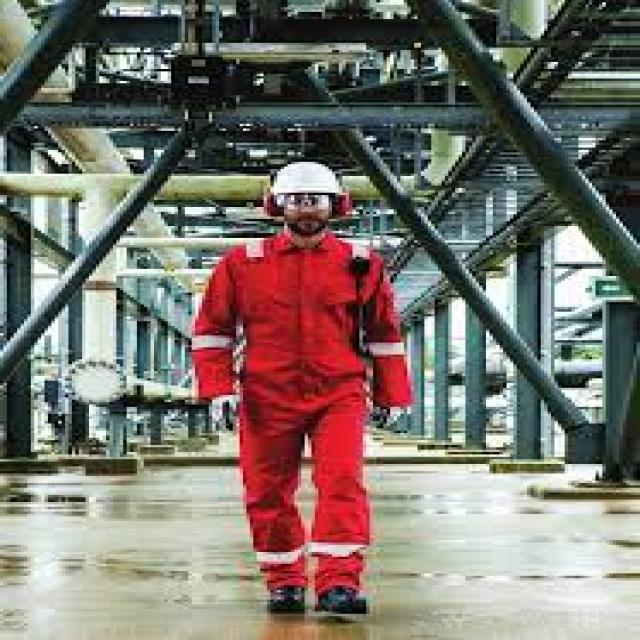vest: (192, 232, 409, 593)
